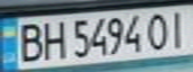4: (124, 11, 148, 54), (87, 15, 109, 57)
5: (66, 16, 90, 60)
9: (106, 13, 127, 55)
B: (12, 20, 45, 63)
H: (36, 18, 69, 61)
I: (163, 7, 193, 50)
O: (142, 9, 172, 52)
